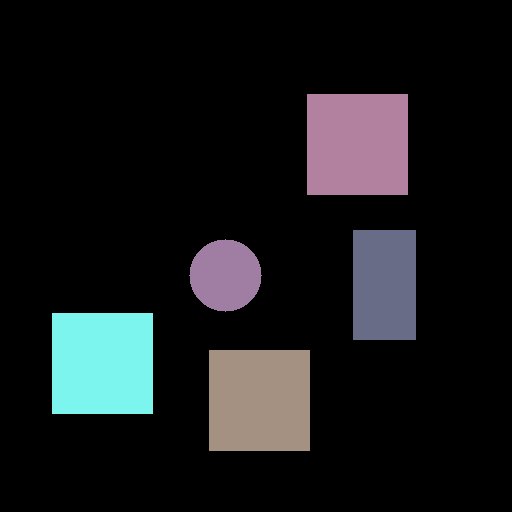circle: (189, 239, 261, 311)
rectangle: (353, 230, 415, 339)
square: (209, 350, 309, 450), (52, 313, 152, 413), (307, 94, 407, 194)
